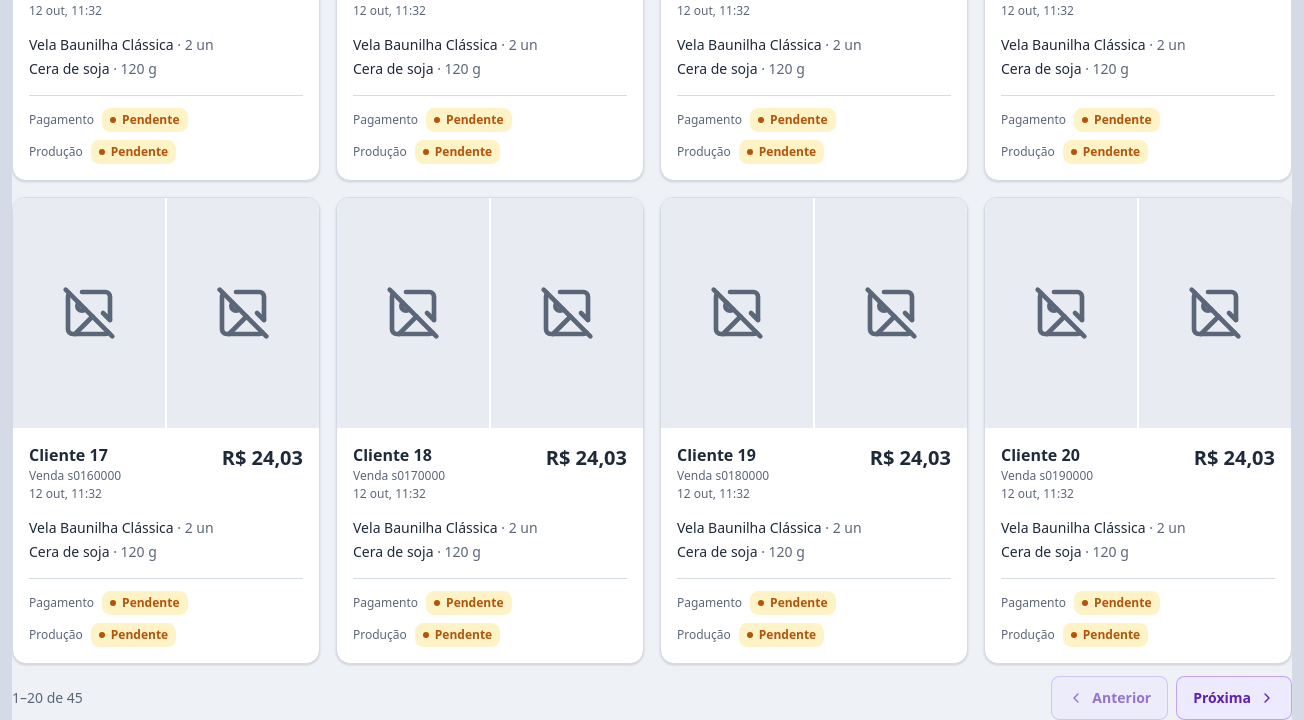
Test: the pagination › counts the whole history, shows a page of it and never asks for more than the API allows
The image size is (1304, 720).
(page scrolled)
Check: the text "1–20 de 45" is shown, box [12,688,83,708]
Click the button "Próxima".
click(1234, 698)  # box [1176,676,1292,719]
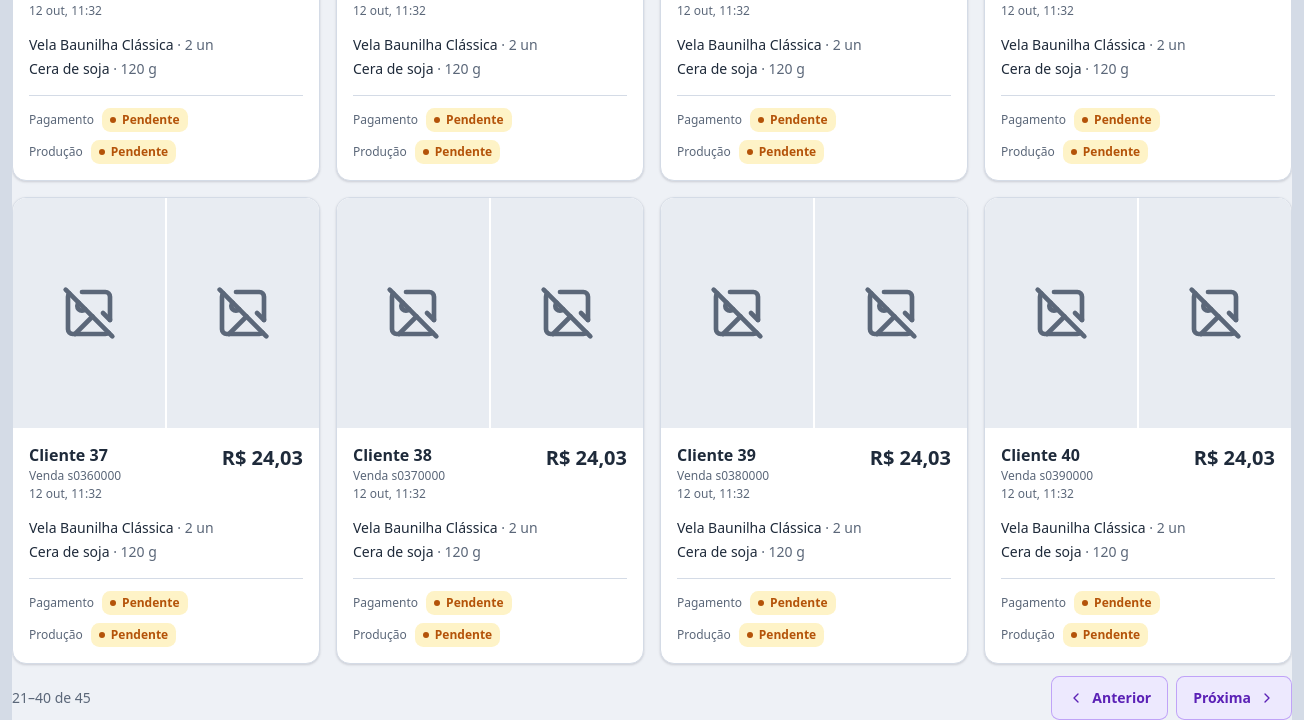
Check: the text "21–40 de 45" is shown, box [12,688,91,708]
